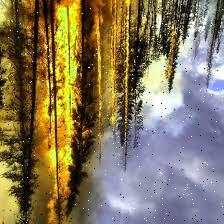fire: (22, 0, 94, 224)
